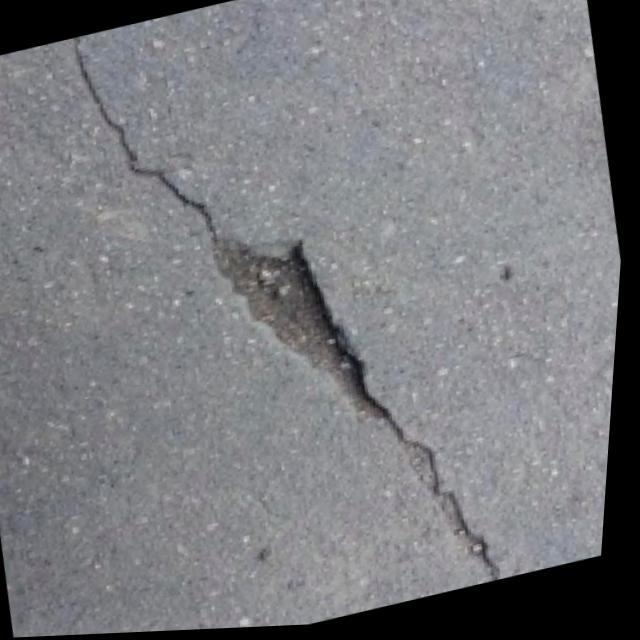Crack: (23, 0, 569, 638)
